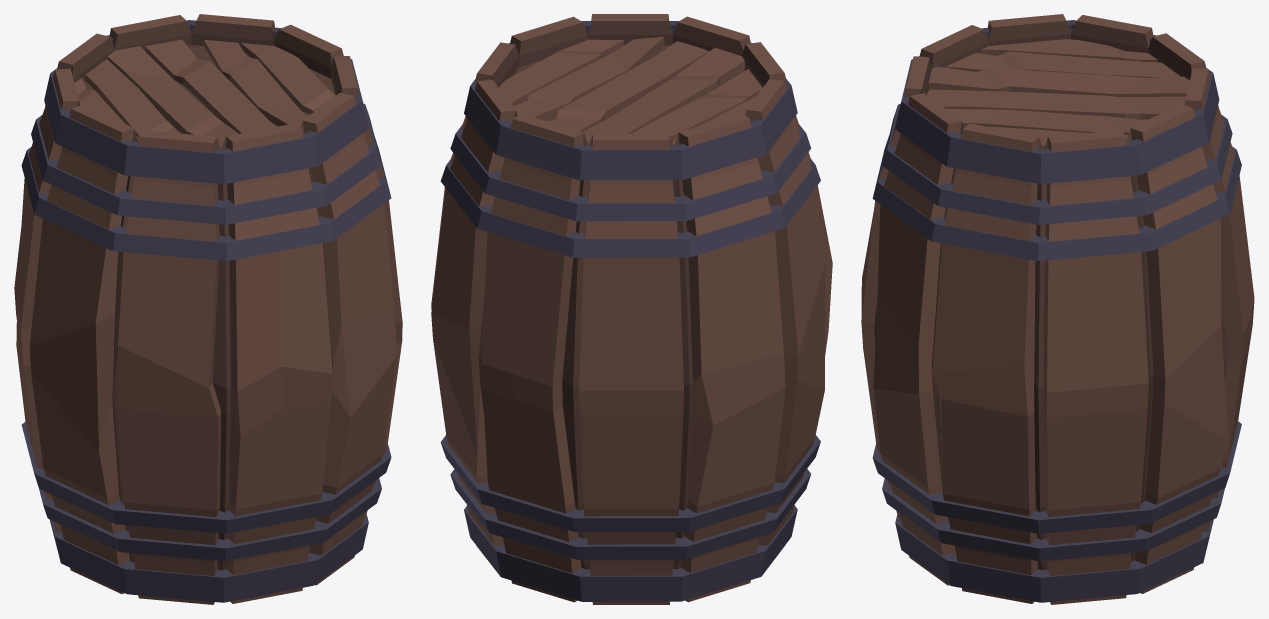
File: Barrel.glb
3 views of the same model, side by side, from view 1: azimuth 30°, elevation 25°; view 2: azimuth 150°, elevation 25°; view 3: azimuth 270°, elevation 25° (orthographic).
Visible parts, largest first — view 1: Barrel; view 2: Barrel; view 3: Barrel.
Boxes of the visible parts, x1,y1,x2,y2 form: Barrel: (14, 14, 402, 604); Barrel: (431, 14, 832, 604); Barrel: (861, 14, 1254, 604).
Bounding box in the file's own units: 0.2607 × 0.3367 × 0.2584.
